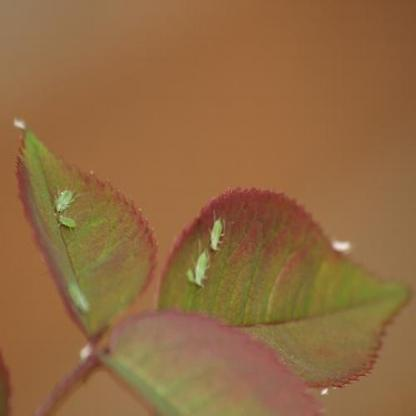aphid: (65, 273, 98, 318), (185, 244, 214, 291), (207, 207, 234, 253), (52, 178, 79, 221), (55, 212, 85, 237)
